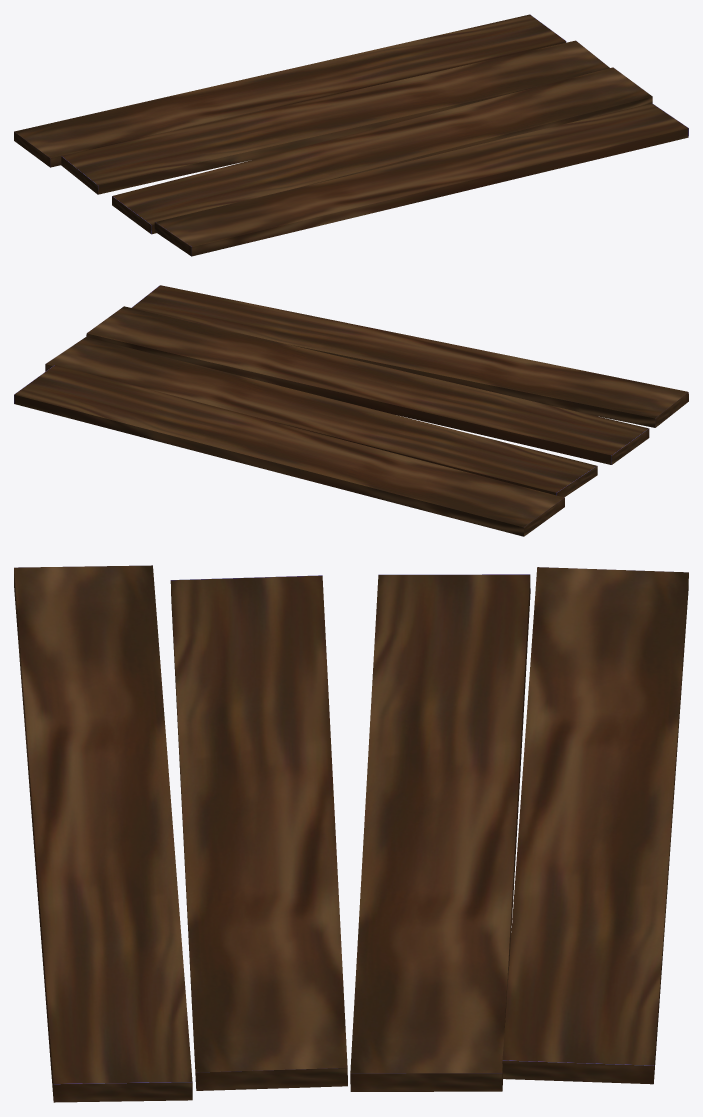
File: Caminho1.fbx
The picture shows the model from 3 angles, top to bottom: view 1: azimuth 30°, elevation 25°; view 2: azimuth 150°, elevation 25°; view 3: azimuth 270°, elevation 25°; orthographic projection. The views are drawn at different scales.
Parts seen in each view (by area): view 1: Way; view 2: Way; view 3: Way.
Boxes of the visible parts, <box> form: Way: <box>14,14,688,256</box>; Way: <box>14,285,688,536</box>; Way: <box>14,565,688,1102</box>.
Size of the model in its own units: 302 by 11.91 by 171.
